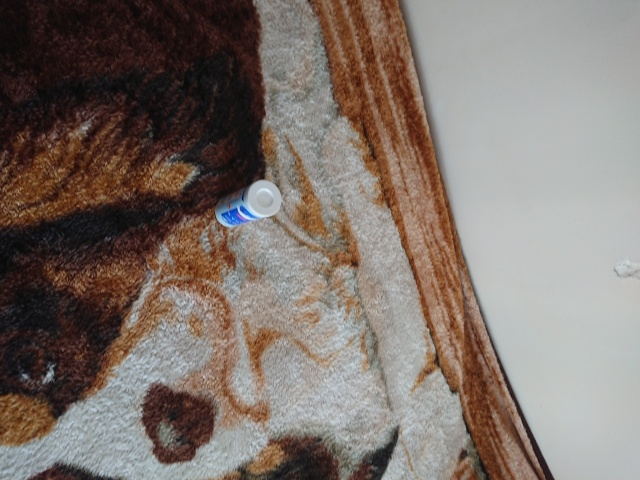Solana Pag Fine Sea Salt 250g: (213, 177, 284, 230)
